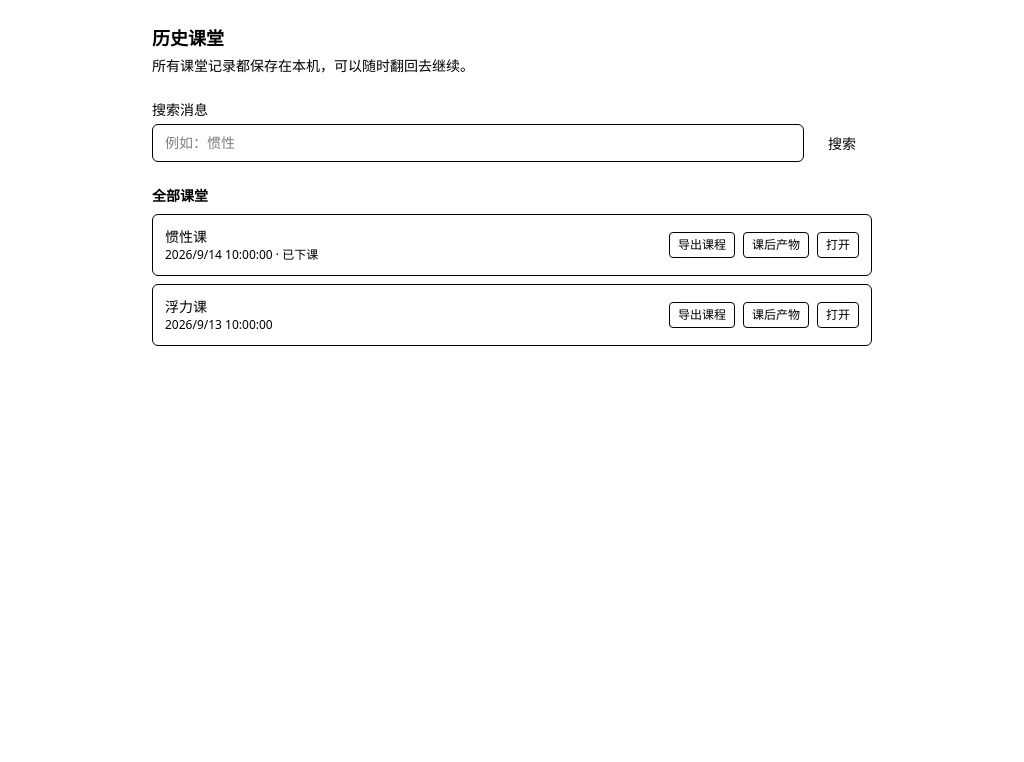
Test case: HistoryPanel › shows stored end-class artifacts for a past lesson
The image size is (1024, 762).
Check: the text "惯性课" is shown, box [165, 227, 207, 246]
Click the button "课后产物" in the row of "· 已下课" at (776, 245), box [743, 232, 809, 258]
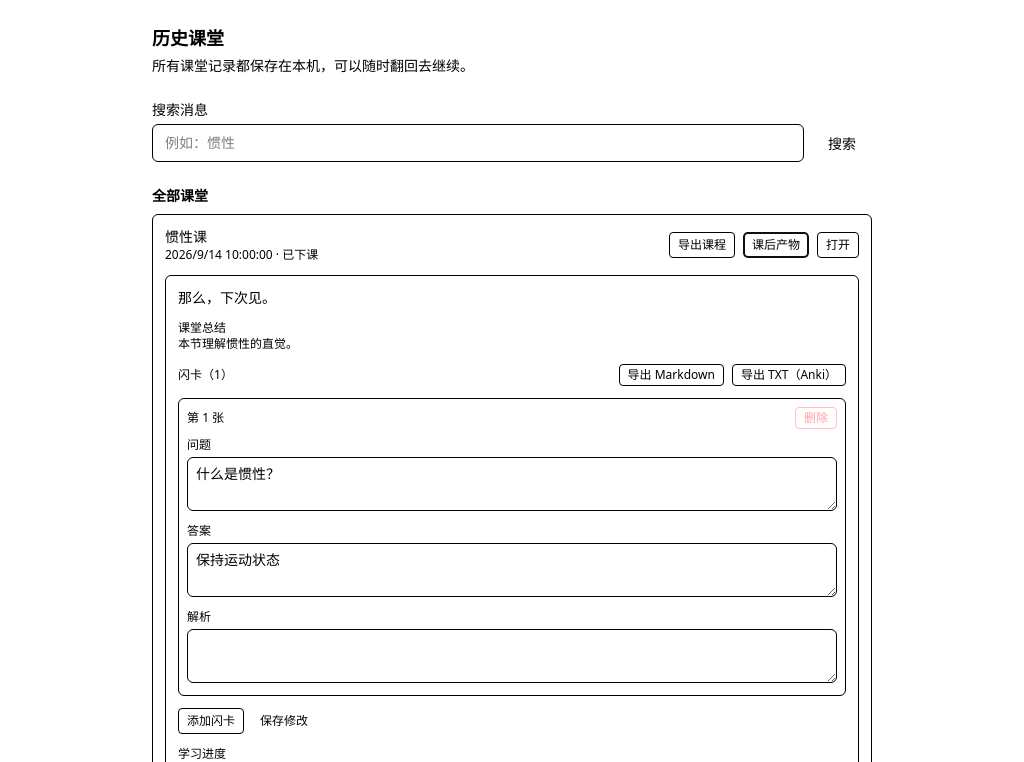
Check: the text "本节理解惯性的直觉。" is shown, box [178, 335, 298, 352]
Check: the text box "什么是惯性？" is shown, box [187, 457, 837, 511]
# Clicking again collapses the artifact view
Click the button "课后产物" at (776, 245), box [743, 232, 809, 258]
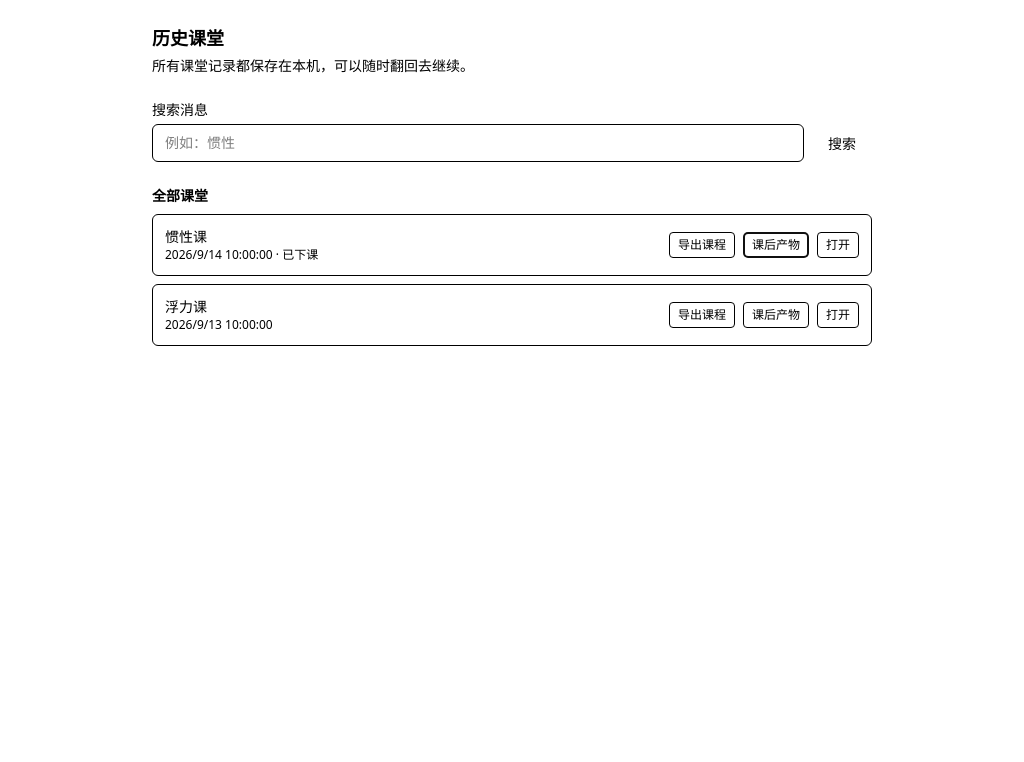
Check: the text "本节理解惯性的直觉。" is gone
